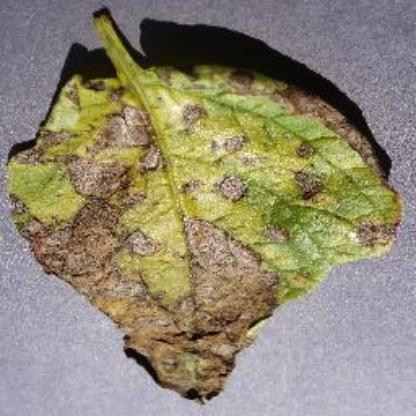Early-Blight: (7, 9, 408, 401)
